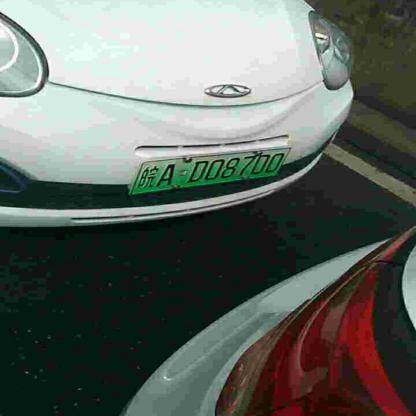lp: (129, 148, 291, 194)
